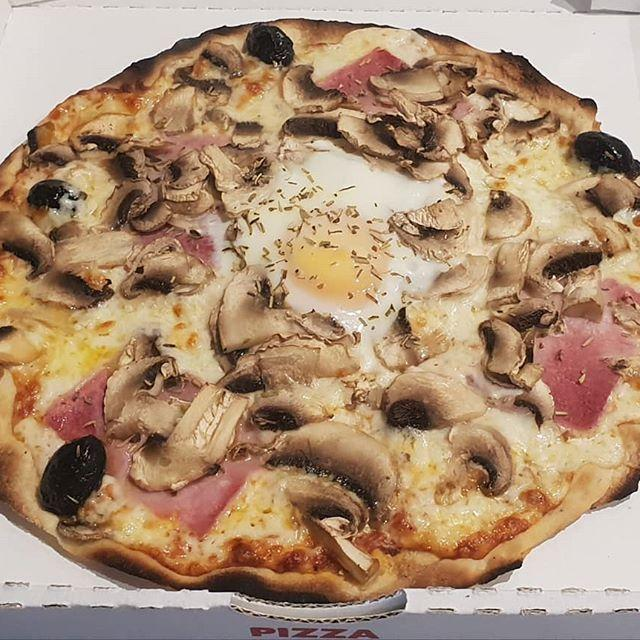champignon: (274, 469, 378, 581), (131, 398, 250, 494), (265, 426, 400, 510), (222, 263, 339, 346), (107, 355, 185, 440), (371, 373, 487, 429), (444, 419, 521, 499), (122, 255, 216, 301), (1, 206, 57, 281), (279, 64, 356, 115), (482, 315, 530, 383), (484, 183, 536, 243)
